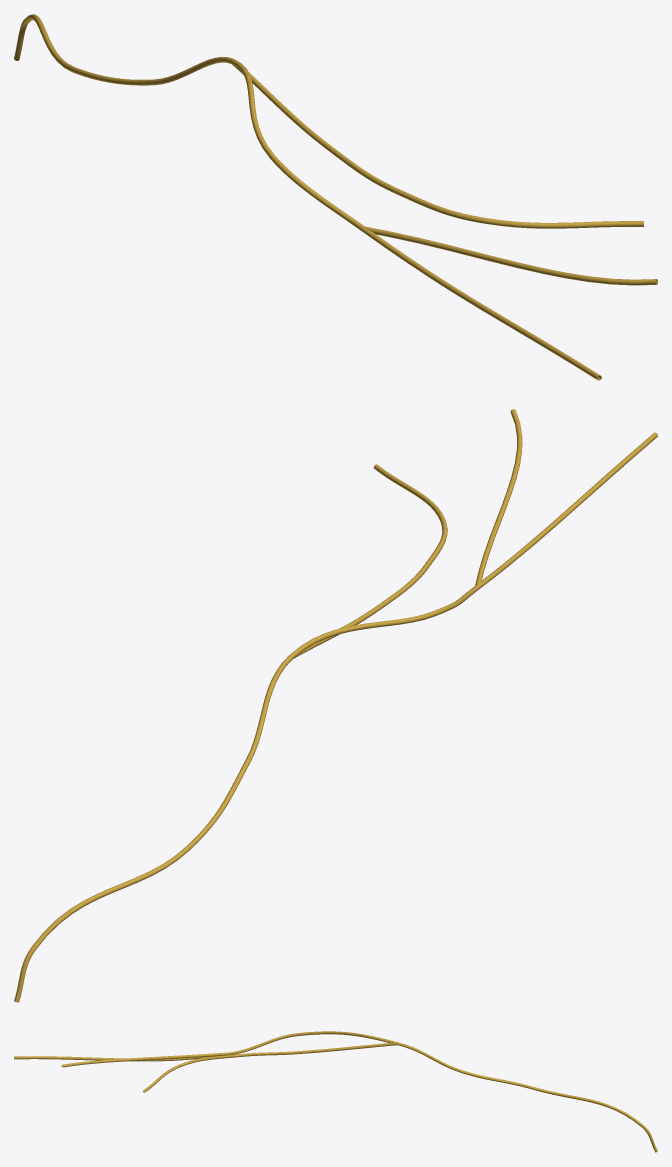
3 renders of one model, top to bottom at view 1: azimuth 30°, elevation 25°; view 2: azimuth 150°, elevation 25°; view 3: azimuth 270°, elevation 25°, orthographic. The views are drawn at different scales.
Parts seen in each view (by area): view 1: 右侧闭孔神经; view 2: 右侧闭孔神经; view 3: 右侧闭孔神经.
Boxes of the visible parts, x1,y1,x2,y2 form: 右侧闭孔神经: [14, 14, 657, 380]; 右侧闭孔神经: [14, 409, 657, 1002]; 右侧闭孔神经: [14, 1031, 657, 1152].
Bounding box in the file's own units: 0.0644 × 0.0571 × 0.3213.
